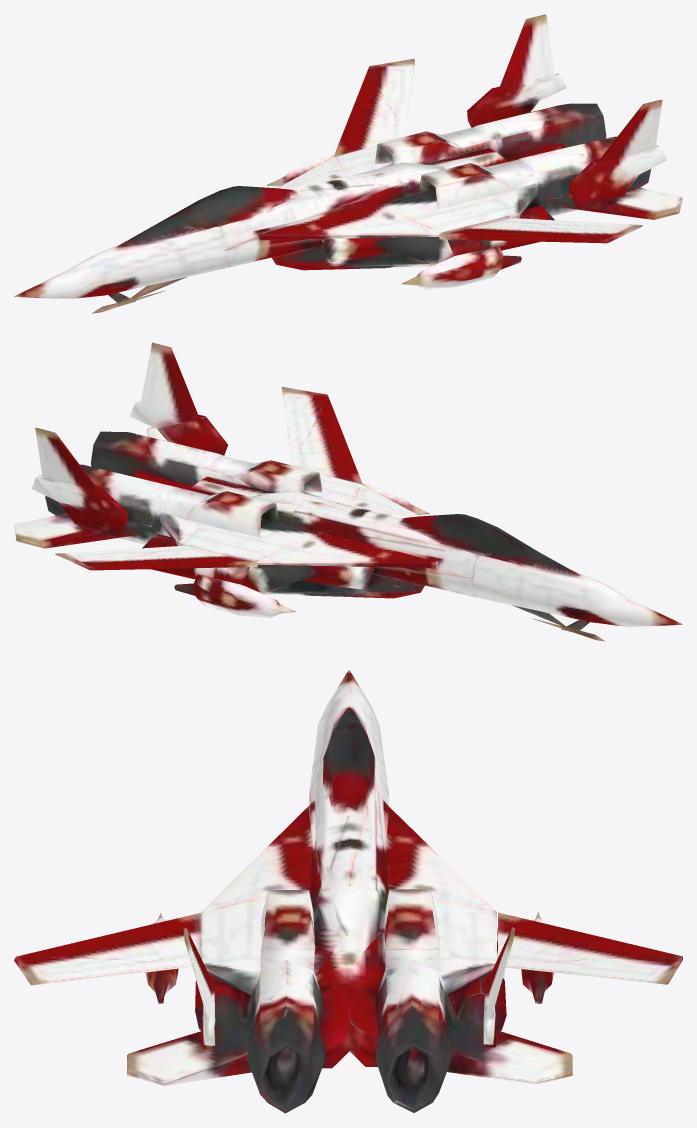
The model's file is perseus.glb.
3 views of the same model, one above another, from view 1: azimuth 30°, elevation 25°; view 2: azimuth 150°, elevation 25°; view 3: azimuth 270°, elevation 25° (orthographic). The views are drawn at different scales.
Visible parts, largest first — view 1: mesh_node; view 2: mesh_node; view 3: mesh_node.
Part boxes in pixels (left/top/right/bottom): mesh_node: left=14, top=14, right=682, bottom=313; mesh_node: left=14, top=342, right=682, bottom=641; mesh_node: left=14, top=670, right=682, bottom=1113.
Bounding box in the file's own units: 1 × 0.2095 × 0.6816.
1 material, 1 textured.
